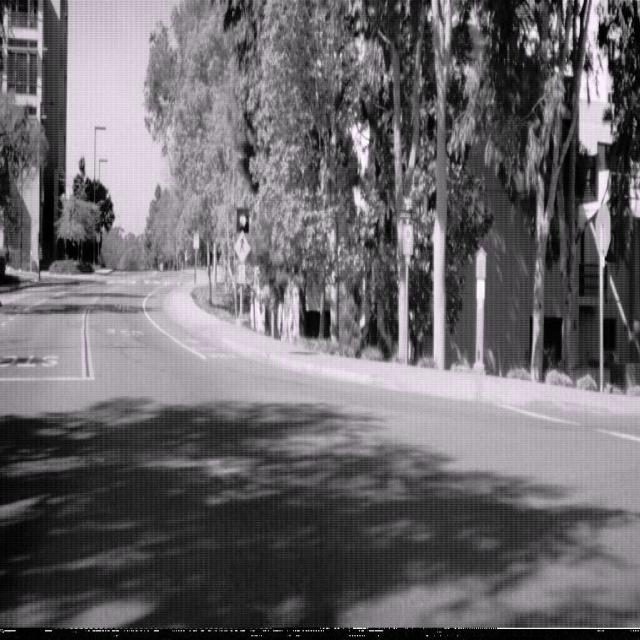pedestrianCrossing: (233, 229, 251, 265)
